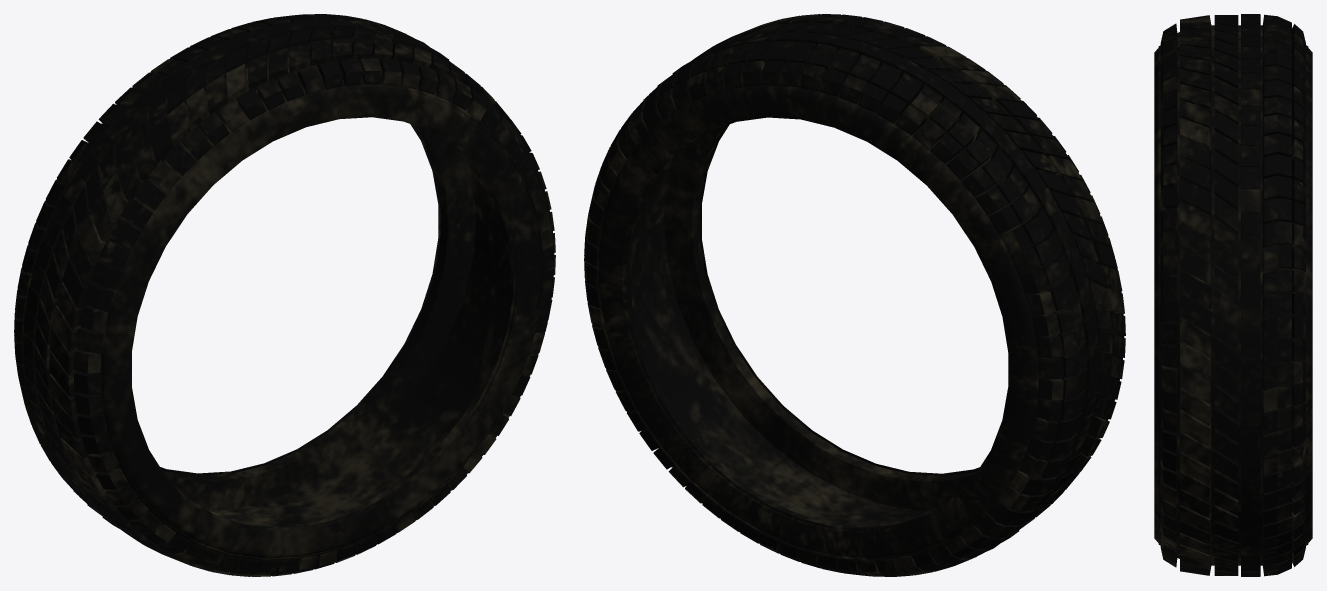
The model's file is SM_Tire.fbx.
The picture shows the model from 3 angles, left to right: view 1: azimuth 30°, elevation 25°; view 2: azimuth 150°, elevation 25°; view 3: azimuth 270°, elevation 25°; orthographic projection.
Parts seen in each view (by area): view 1: TireCombined_pPipe5; view 2: TireCombined_pPipe5; view 3: TireCombined_pPipe5.
Part boxes in pixels (x1,y1,x2,y2): TireCombined_pPipe5: (14,14,555,576); TireCombined_pPipe5: (584,14,1125,576); TireCombined_pPipe5: (1154,14,1312,576).
Size of the model in its own units: 64.97 by 64.97 by 18.27.
